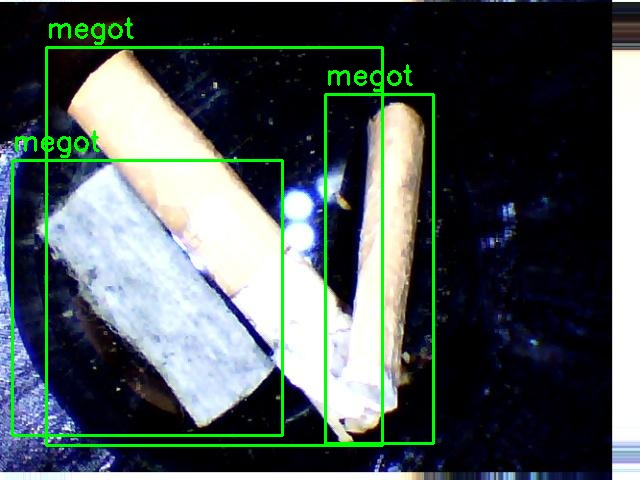megot: (46, 47, 382, 445), (12, 160, 282, 435), (325, 94, 433, 443)
